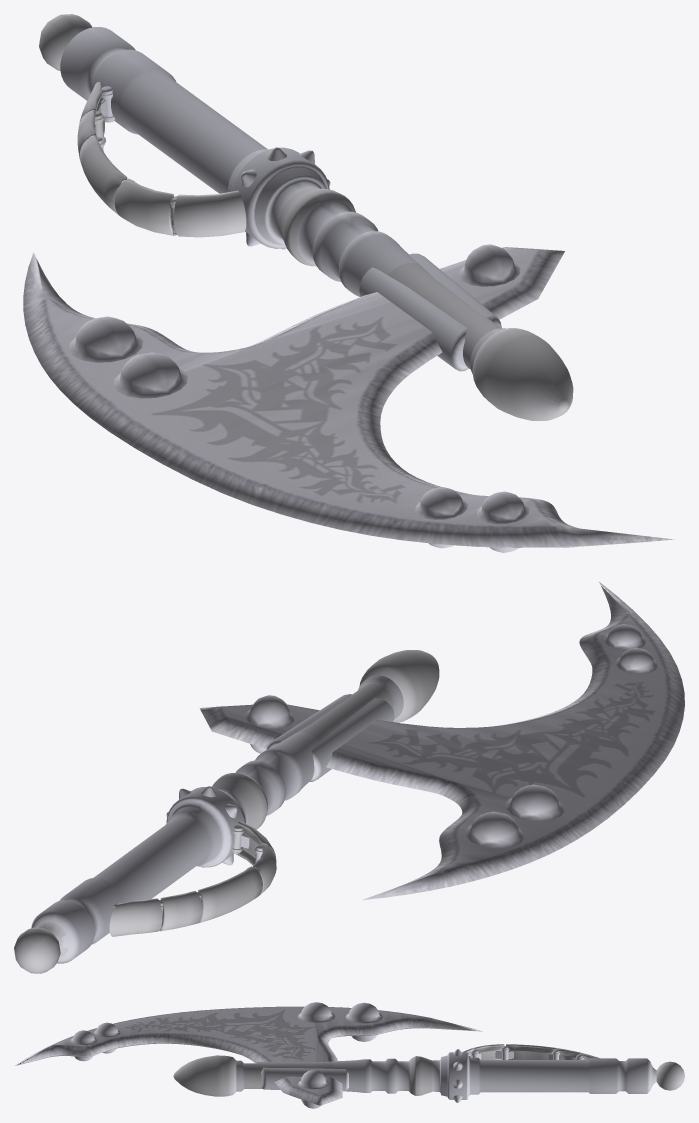
Rendered from axe.obj.
3 renders of one model, top to bottom at view 1: azimuth 30°, elevation 25°; view 2: azimuth 150°, elevation 25°; view 3: azimuth 270°, elevation 25°, orthographic. The views are drawn at different scales.
Visible parts, largest first — view 1: Object__0_0; view 2: Object__0_0; view 3: Object__0_0.
Boxes of the visible parts, x1,y1,x2,y2 form: Object__0_0: (23,14,674,552); Object__0_0: (14,582,684,973); Object__0_0: (15,1002,684,1108).
Size of what is drawn, in the model's own units: 0.251 by 0.0549 by 0.6021.
